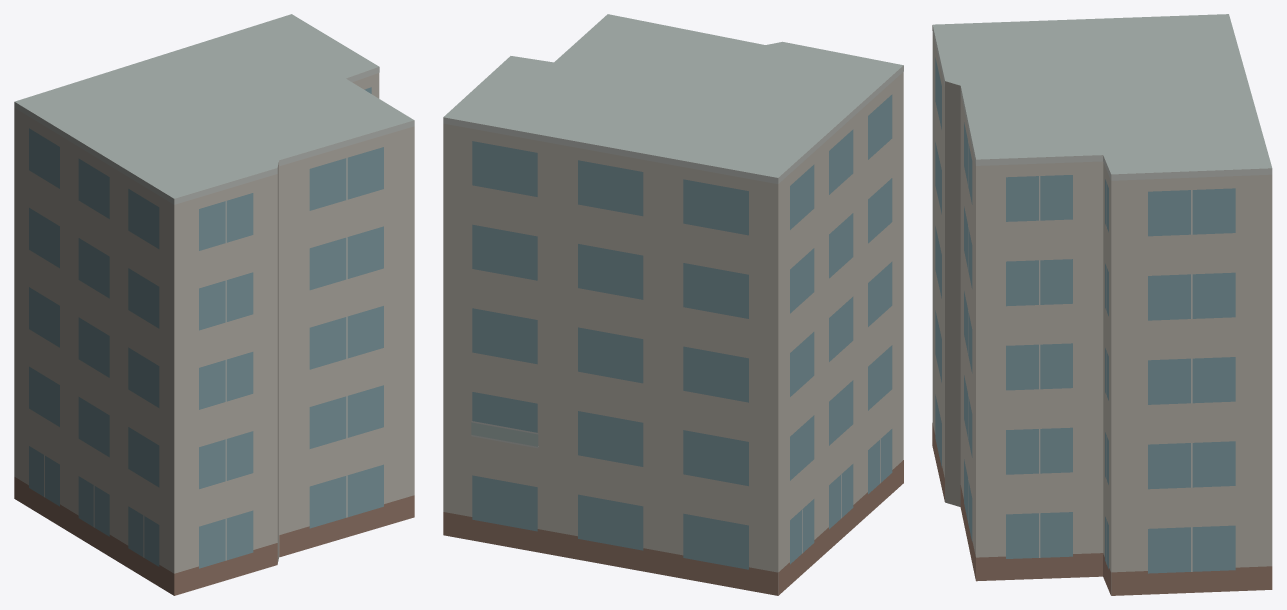
The model's file is survey-upis-32886144.glb.
3 views of the same model, side by side, from view 1: azimuth 30°, elevation 25°; view 2: azimuth 150°, elevation 25°; view 3: azimuth 270°, elevation 25° (orthographic). The views are drawn at different scales.
Visible parts, largest first — view 1: survey-upis-32886144.tmp; view 2: survey-upis-32886144.tmp; view 3: survey-upis-32886144.tmp.
Part boxes in pixels (box(x1,y1,x2,y2)): survey-upis-32886144.tmp: box(14, 14, 414, 595); survey-upis-32886144.tmp: box(443, 14, 903, 595); survey-upis-32886144.tmp: box(932, 14, 1272, 595).
Size of the model in its own units: 13.19 by 16.15 by 11.81.
